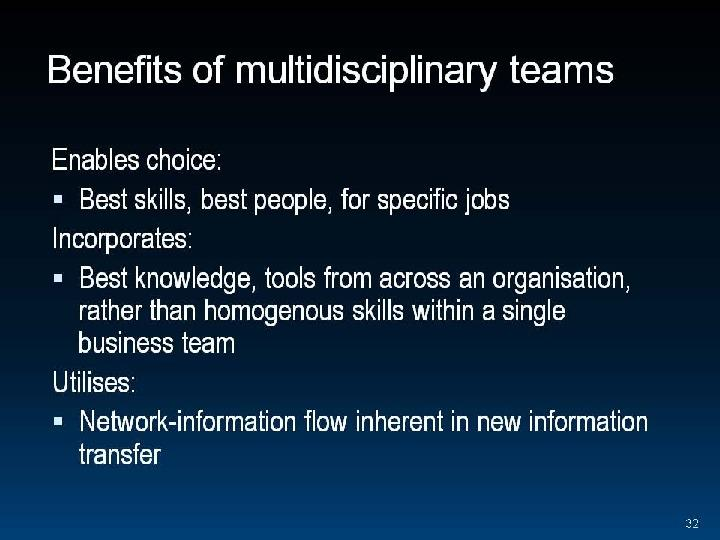paragraph: (24, 120, 676, 505)
subtitle: (43, 132, 226, 182), (49, 363, 148, 405)
title: (37, 33, 624, 94)
